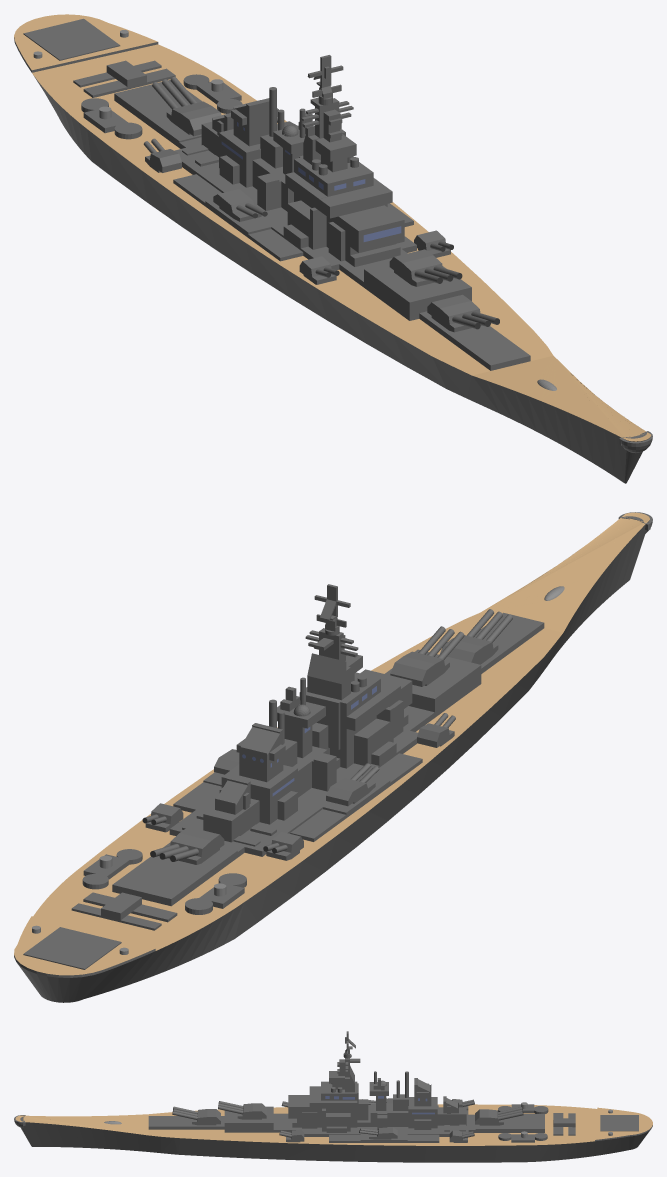
File: BB-61+Battleship.obj
3 views of the same model, one above another, from view 1: azimuth 30°, elevation 25°; view 2: azimuth 150°, elevation 25°; view 3: azimuth 270°, elevation 25° (orthographic). The views are drawn at different scales.
Parts seen in each view (by area): view 1: Object.1, Object.3; view 2: Object.1, Object.3; view 3: Object.1, Object.3.
Boxes of the visible parts, x1,y1,x2,y2 form: Object.1: (14, 14, 652, 483); Object.3: (427, 294, 499, 332); Object.1: (14, 512, 652, 1002); Object.3: (439, 609, 512, 664); Object.1: (14, 1031, 652, 1162); Object.3: (172, 1106, 220, 1125).
Size of the model in its own units: 74.88 by 94.98 by 487.
